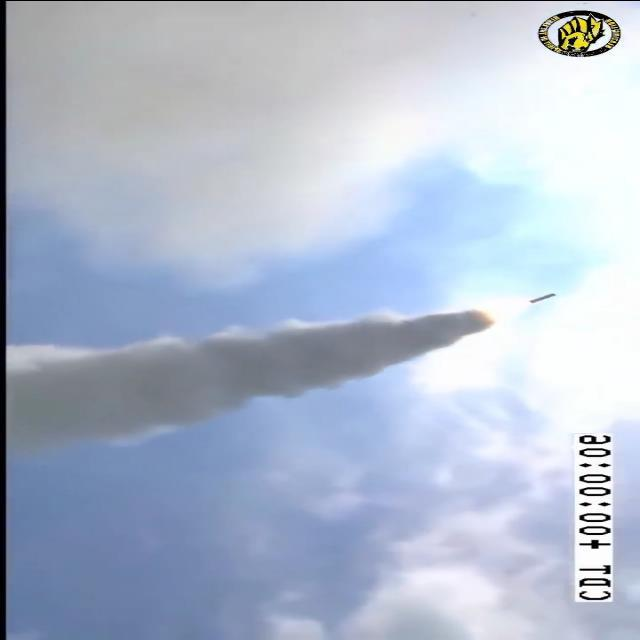Missile: (523, 290, 565, 308)
